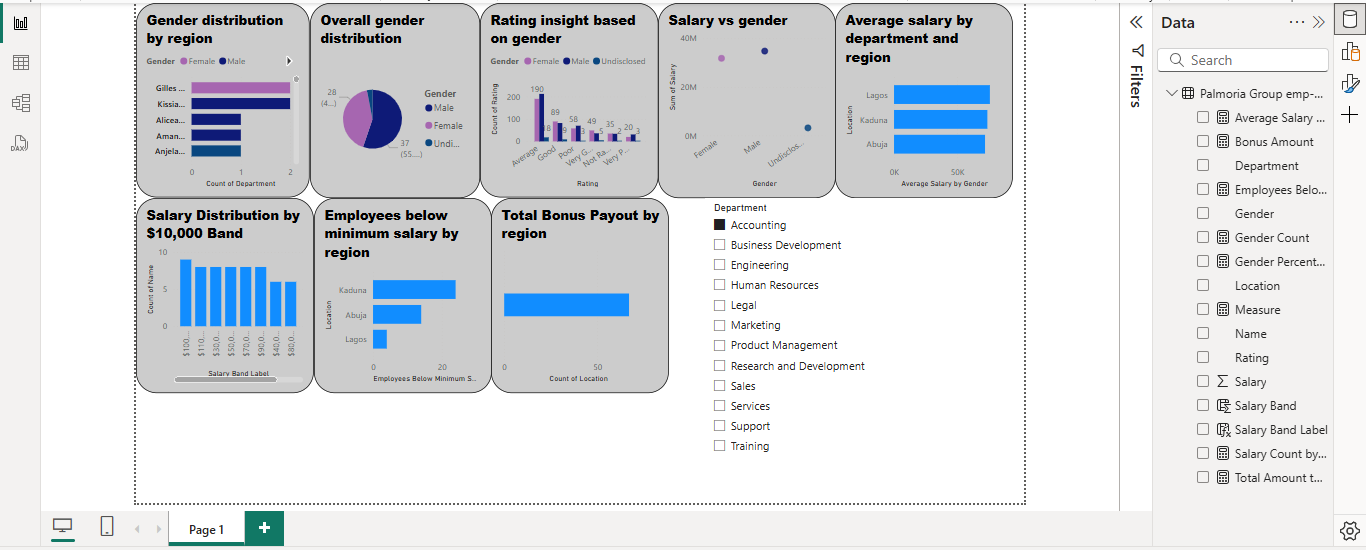

The dashboard page shown, as its layout file describes it:
{"tool":"powerbi","page":{"name":"Page 1","canvas":[1280,720],"ordinal":0},"visuals":[{"type":"barChart","title":"Gender distribution by region","fields":{"Series":["Palmoria Group emp-data.Gender"],"Y":["Palmoria Group emp-data.Department"],"Category":["Palmoria Group emp-data.Employee"]},"box":[0,0,249.9,280.3],"z":0},{"type":"pieChart","title":"Overall gender distribution","fields":{"Category":["Palmoria Group emp-data.Gender"],"Y":["Palmoria Group emp-data.Name"]},"box":[250.3,0,244.9,280.7],"z":1000},{"type":"clusteredColumnChart","title":"Rating insight based on gender ","fields":{"Y":["Palmoria Group emp-data.Rating"],"Category":["Palmoria Group emp-data.Rating"],"Series":["Palmoria Group emp-data.Gender"]},"box":[495.2,0,256.9,280.3],"z":2000},{"type":"scatterChart","title":"Salary vs gender","fields":{"X":["Palmoria Group emp-data.Gender"],"Y":["Palmoria Group emp-data.Salary"]},"box":[751.7,0,256.3,280.8],"z":3000},{"type":"clusteredBarChart","title":"Average salary by department and region ","fields":{"Category":["Palmoria Group emp-data.Location","Palmoria Group emp-data.Department"],"Y":["Palmoria Group emp-data.Average Salary by Gender"]},"box":[1006.5,0,255.6,280.7],"z":4000},{"type":"clusteredColumnChart","title":"Salary Distribution by $10,000 Band","fields":{"Y":["Palmoria Group emp-data.Name"],"Category":["Palmoria Group emp-data.Salary Band Label"]},"box":[0,280.7,255.6,280.7],"z":5000},{"type":"slicer","fields":{"Values":["Palmoria Group emp-data.Gender"]},"box":[0,584.6,672.2,123.4],"z":6000},{"type":"clusteredBarChart","title":" Employees Below Minimum Salary by Region","fields":{"Y":["Palmoria Group emp-data.Employees Below Minimum Salary"],"Category":["Palmoria Group emp-data.Location"]},"box":[255.6,280.7,255.6,280.7],"z":6002},{"type":"barChart","title":" Employees Below Minimum Salary by Region","fields":{"Y":["Palmoria Group emp-data.Location"]},"box":[511.3,280.7,255.6,280.7],"z":6003}]}

Visuals, with their boxes on the page's 1280x720 design canvas (x1, y1, x2, y2). These are canvas units, not pixel positions in the 1366x550 screenshot, which may show the page scaled, cropped or inside an application window:
"Gender distribution by region" barChart: [left=0, top=0, right=250, bottom=280]
"Overall gender distribution" pieChart: [left=250, top=0, right=495, bottom=281]
"Rating insight based on gender " clusteredColumnChart: [left=495, top=0, right=752, bottom=280]
"Salary vs gender" scatterChart: [left=752, top=0, right=1008, bottom=281]
"Average salary by department and region " clusteredBarChart: [left=1006, top=0, right=1262, bottom=281]
"Salary Distribution by $10,000 Band" clusteredColumnChart: [left=0, top=281, right=256, bottom=561]
slicer - Palmoria Group emp-data.Gender: [left=0, top=585, right=672, bottom=708]
" Employees Below Minimum Salary by Region" clusteredBarChart: [left=256, top=281, right=511, bottom=561]
" Employees Below Minimum Salary by Region" barChart: [left=511, top=281, right=767, bottom=561]
